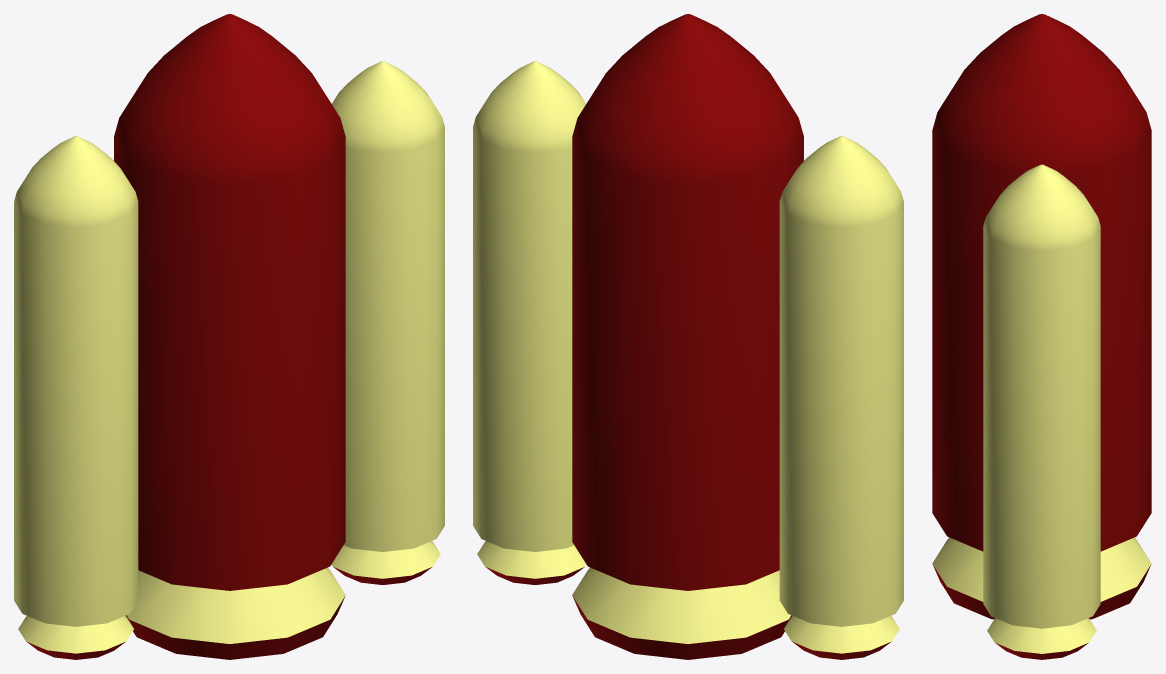
The model's file is space shuttle shutlle.fbx.
The picture shows the model from 3 angles, left to right: view 1: azimuth 30°, elevation 25°; view 2: azimuth 150°, elevation 25°; view 3: azimuth 270°, elevation 25°; orthographic projection. The views are drawn at different scales.
Visible parts, largest first — view 1: Cylinder; view 2: Cylinder; view 3: Cylinder.
Part boxes in pixels (left/top/right/bottom): Cylinder: left=14, top=14, right=444, bottom=659; Cylinder: left=473, top=14, right=903, bottom=659; Cylinder: left=932, top=14, right=1151, bottom=659.
Size of the model in its own units: 2.65 by 3.66 by 1.28.
